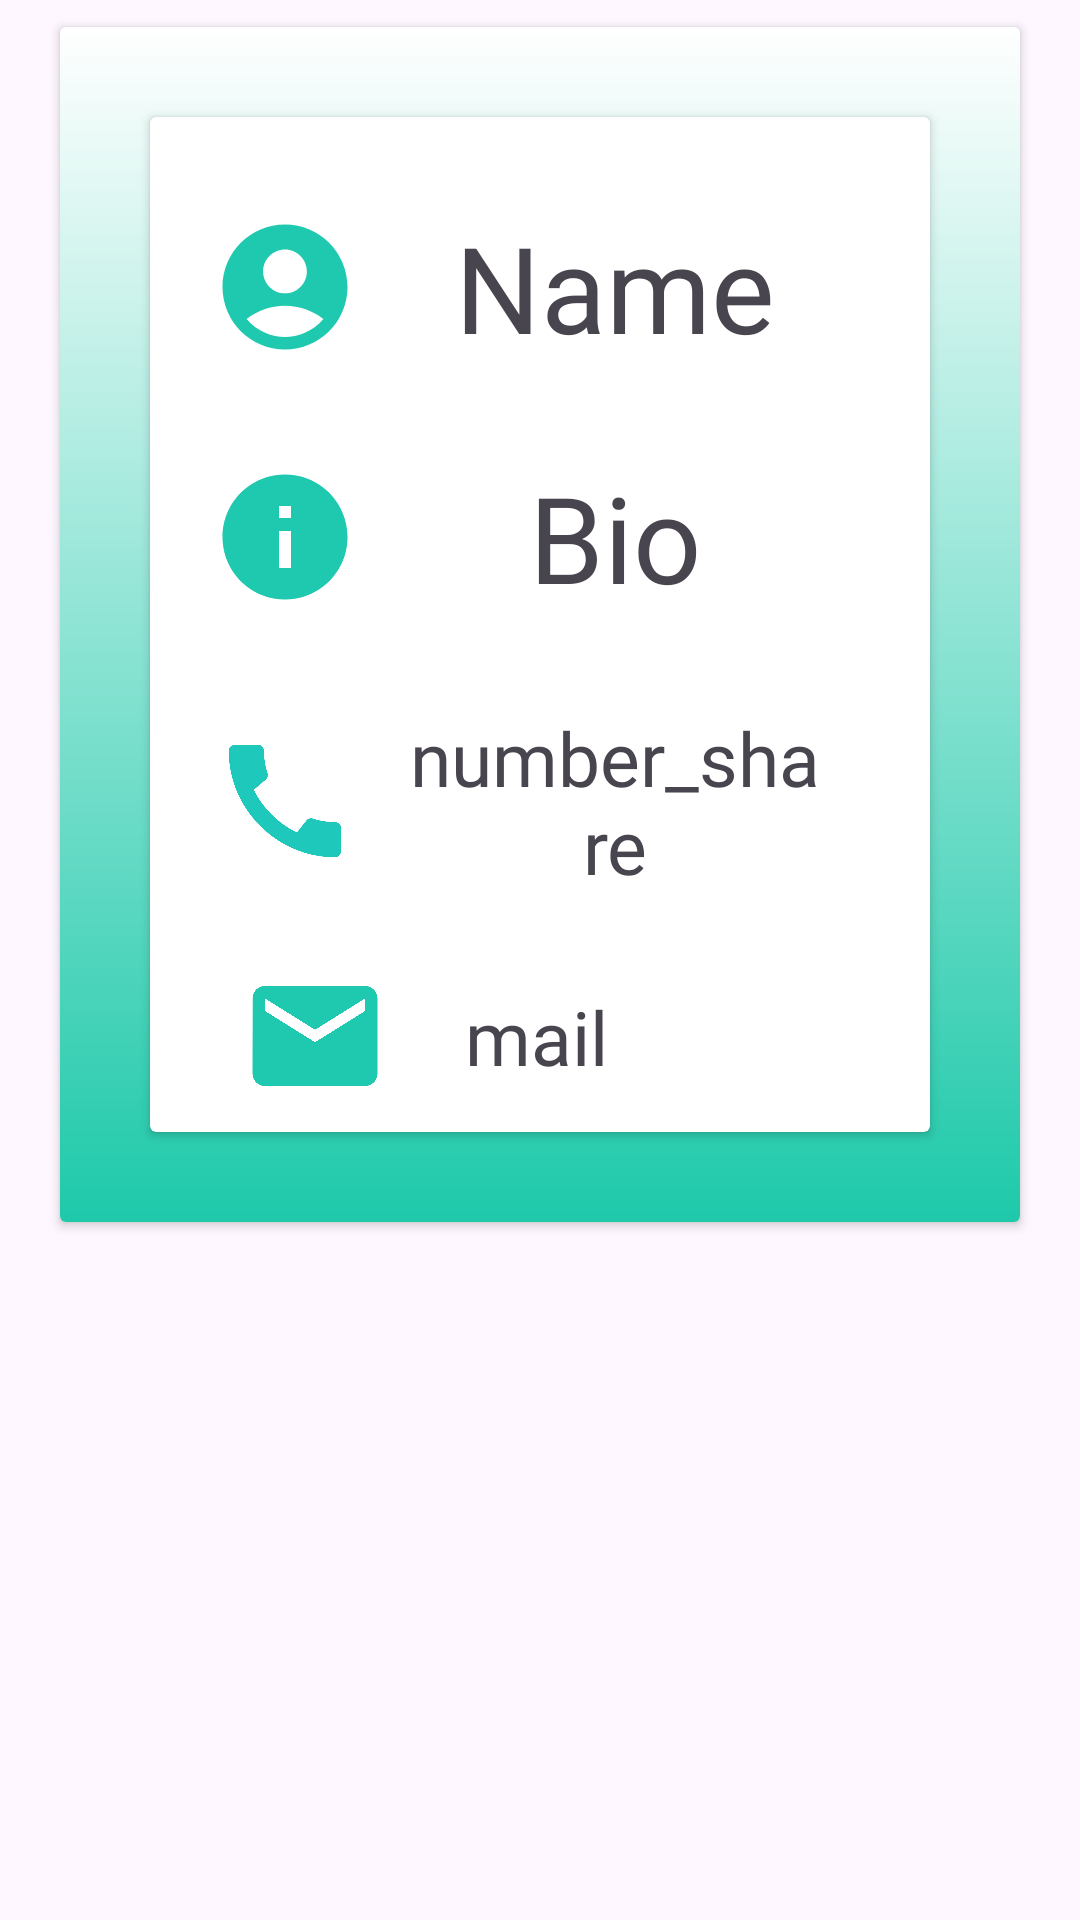

Screen size 1080px x 1920px. Icon name, then its center in pixels as (x,y):
account circle: (285,287)
call: (285,801)
info: (285,537)
